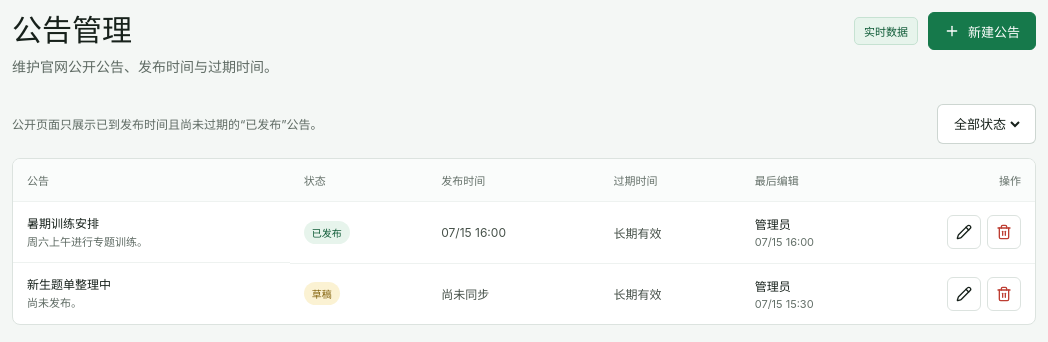
Test case: AdminAnnouncementsPage with Supabase configured › loads and filters announcements by stored status
This screenshot has width=1048, height=342.
Expected: the row "暑期训练安排 周六上午进行专题训练。 已发布 07/15 16:00 长期有效 管理员 07/15 16:00" is shown, [13,201,1035,263]
Expected: the row "新生题单整理中 尚未发布。 草稿 尚未同步 长期有效 管理员 07/15 15:30" is shown, [13,263,1035,324]
Select "草稿" in the dropdown named "公告状态" at (986, 124), box [950,107,1023,141]
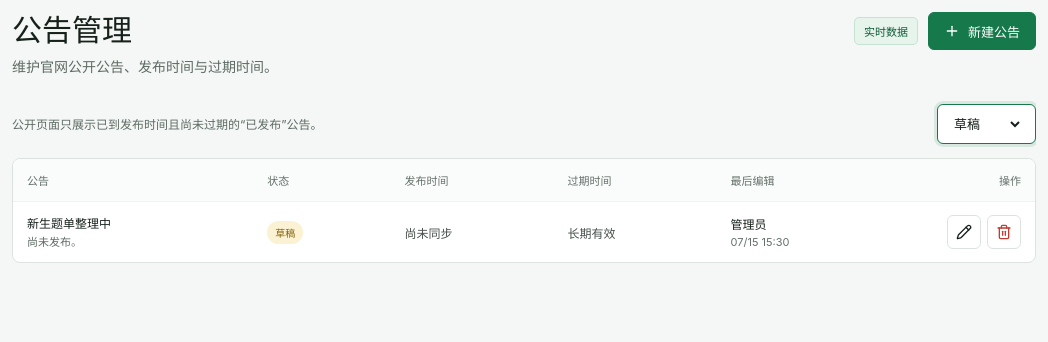
Expected: the row "新生题单整理中 尚未发布。 草稿 尚未同步 长期有效 管理员 07/15 15:30" is shown, [13,201,1035,262]
Expected: the text "暑期训练安排" is gone
